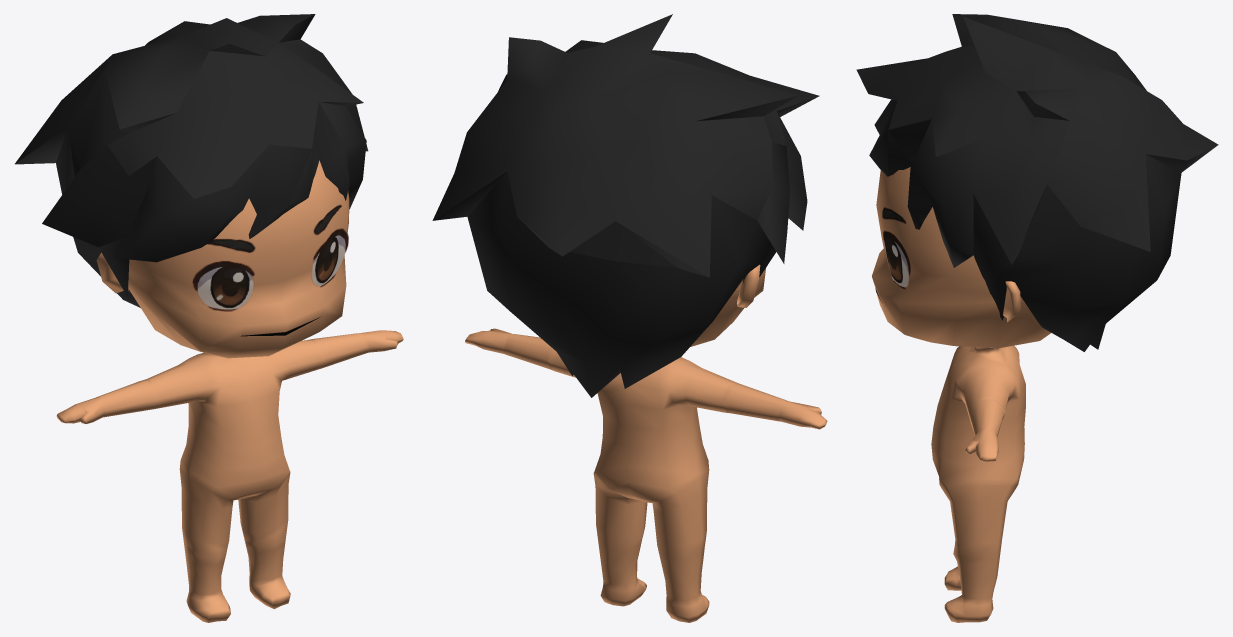
File: pf-upload-1791716289359-mgabata.glb
3 views of the same model, side by side, from view 1: azimuth 30°, elevation 25°; view 2: azimuth 150°, elevation 25°; view 3: azimuth 270°, elevation 25° (orthographic). The views are drawn at different scales.
Visible parts, largest first — view 1: hair, base_body, face; view 2: hair, base_body; view 3: hair, base_body, face.
Part boxes in pixels (<box>): hair: <box>15,14,368,307</box>; base_body: <box>56,160,403,622</box>; face: <box>192,204,348,311</box>; hair: <box>432,14,819,397</box>; base_body: <box>465,264,827,622</box>; hair: <box>856,14,1218,351</box>; base_body: <box>872,167,1050,622</box>; face: <box>882,206,910,289</box>.
Bounding box in the file's own units: 0.0664 × 0.1054 × 0.0598.
4 materials, 1 textured.
